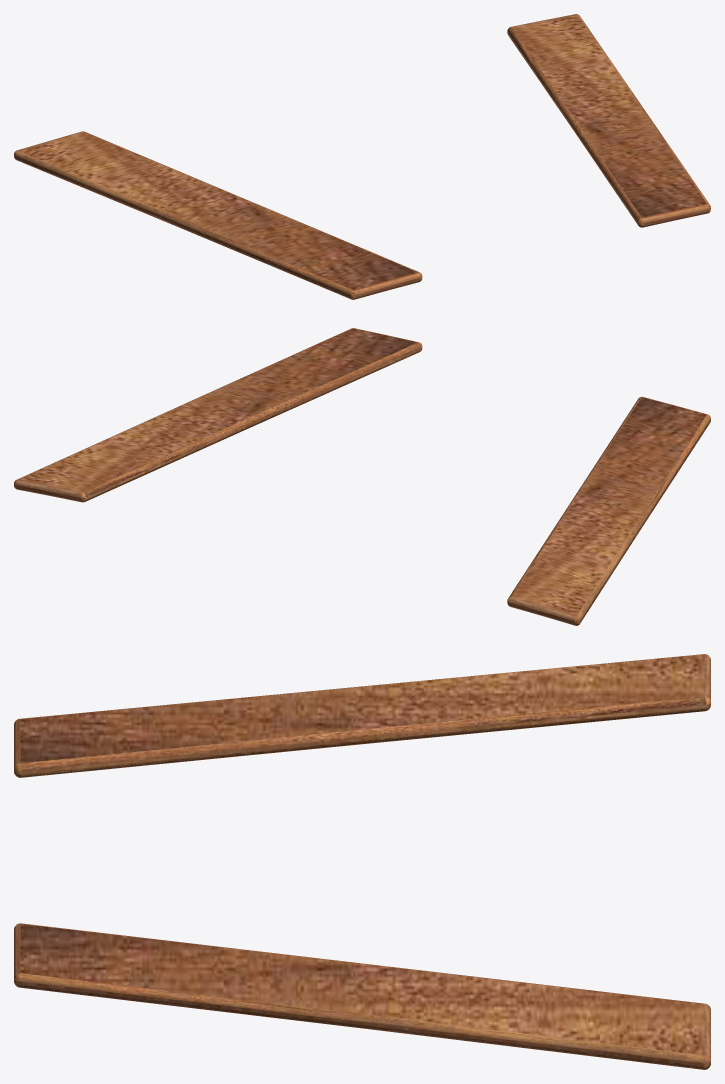
File: gunzhouban.fbx
3 views of the same model, one above another, from view 1: azimuth 30°, elevation 25°; view 2: azimuth 150°, elevation 25°; view 3: azimuth 270°, elevation 25° (orthographic). The views are drawn at different scales.
Parts seen in each view (by area): view 1: 右滚轴板, 左滚轴板; view 2: 左滚轴板, 右滚轴板; view 3: 左滚轴板, 右滚轴板.
Boxes of the visible parts, x1,y1,x2,y2 form: 右滚轴板: [14, 131, 422, 299]; 左滚轴板: [507, 14, 710, 227]; 左滚轴板: [14, 328, 422, 502]; 右滚轴板: [507, 396, 710, 625]; 左滚轴板: [14, 923, 710, 1069]; 右滚轴板: [14, 654, 710, 777].
Size of the model in its own units: 62.02 by 1.81 by 45.
Materials: 1 (1 with a texture image).
